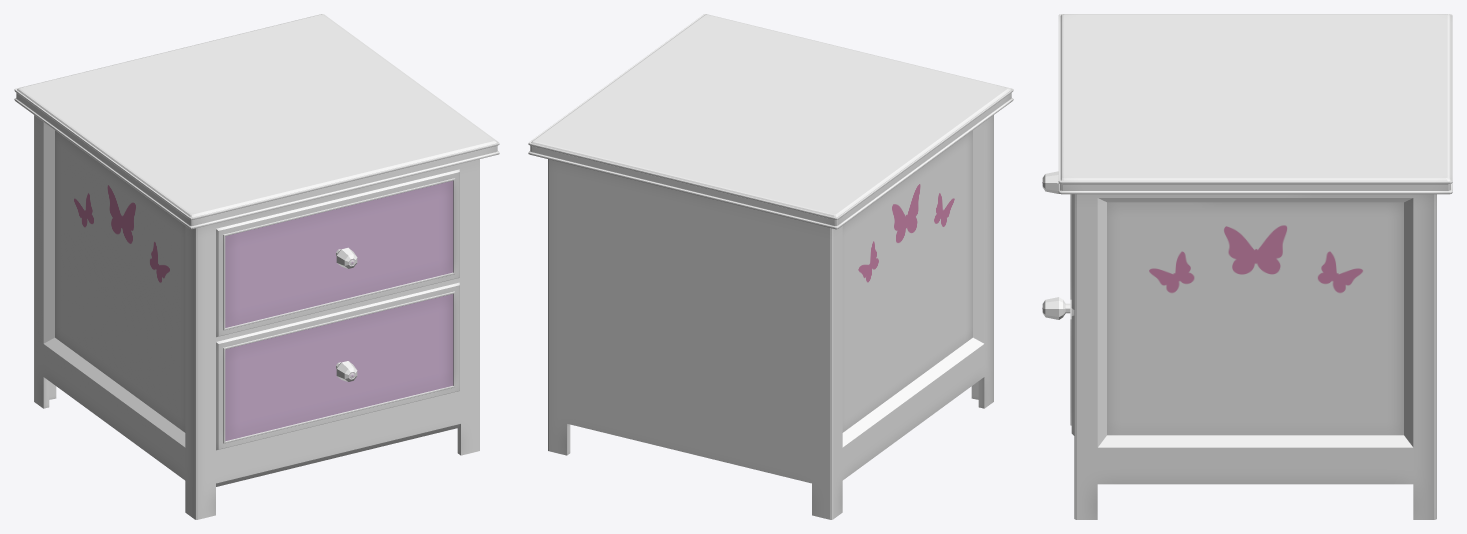
Rendered from Bedroom_Sidelocker.FBX.
3 renders of one model, left to right at view 1: azimuth 30°, elevation 25°; view 2: azimuth 150°, elevation 25°; view 3: azimuth 270°, elevation 25°, orthographic. The views are drawn at different scales.
Visible parts, largest first — view 1: Bed_Room_Side_Locker, Bedroom_Side_Locker_Drawer001, Bedroom_Side_Locker_Drawer; view 2: Bed_Room_Side_Locker; view 3: Bed_Room_Side_Locker, Bedroom_Side_Locker_Drawer001, Bedroom_Side_Locker_Drawer.
Boxes of the visible parts, x1,y1,x2,y2 form: Bed_Room_Side_Locker: (14, 14, 499, 519); Bedroom_Side_Locker_Drawer001: (216, 282, 459, 450); Bedroom_Side_Locker_Drawer: (216, 169, 459, 337); Bed_Room_Side_Locker: (528, 14, 1013, 519); Bed_Room_Side_Locker: (1058, 14, 1452, 519); Bedroom_Side_Locker_Drawer001: (1042, 297, 1074, 435); Bedroom_Side_Locker_Drawer: (1042, 171, 1074, 309).
Bounding box in the file's own units: 54.87 × 52.71 × 56.59.
Materials: 2 (2 with a texture image).
